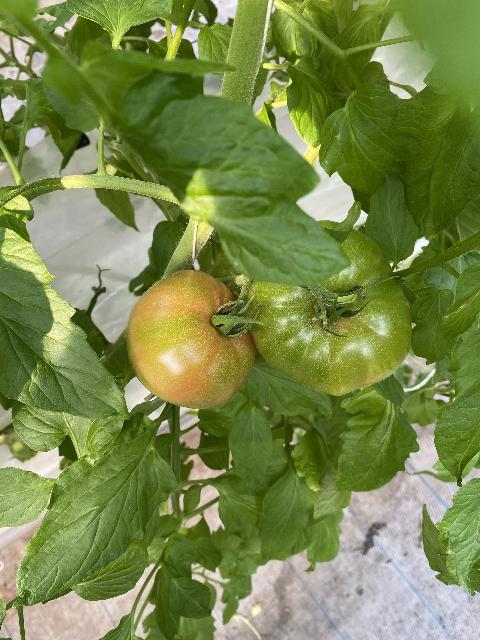b_green: (243, 220, 411, 397)
b_half_ripened: (126, 269, 257, 409)
